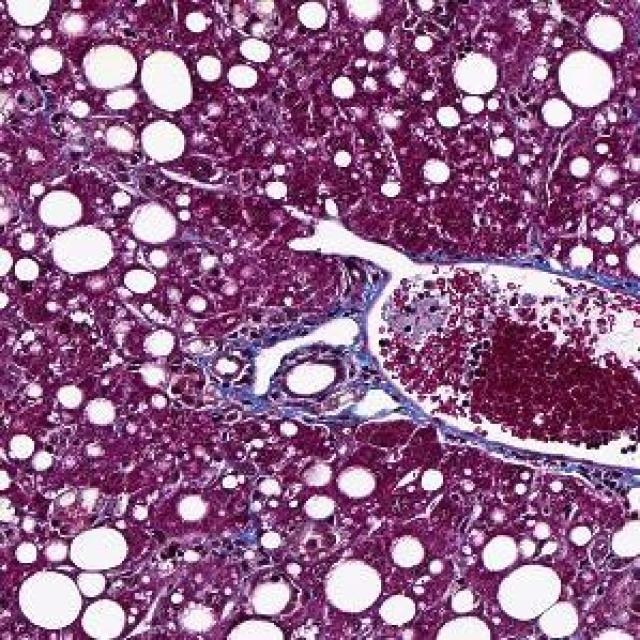fibrosis: (231, 368, 400, 443)
